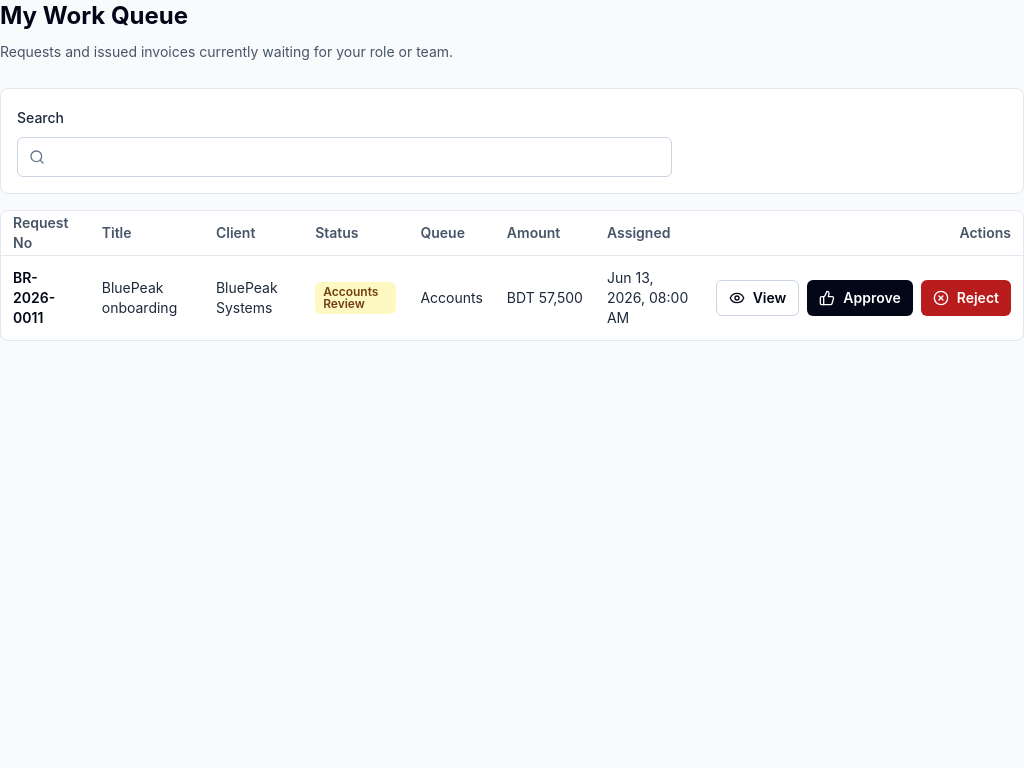
Test case: MyWorkQueuePage › opens comment dialogs for approving and rejecting queued work
Click the button "Approve" at {"x": 860, "y": 298}, box [807,280,913,316]
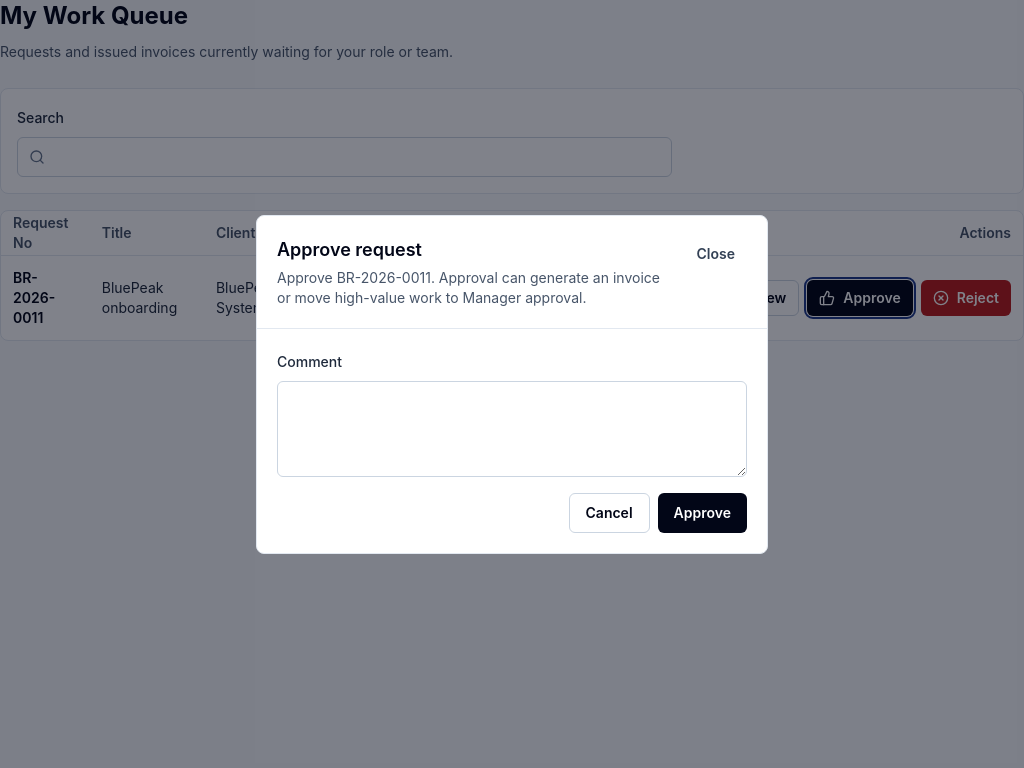
Expected: the dialog is shown
Expected: the heading "Approve request" is shown, [277,238,422,260]
Expected: the text box labelled "Comment" is shown, [277,380,747,476]
Click the button with aria-label "Close dialog" at {"x": 716, "y": 254}, box [684,236,747,272]
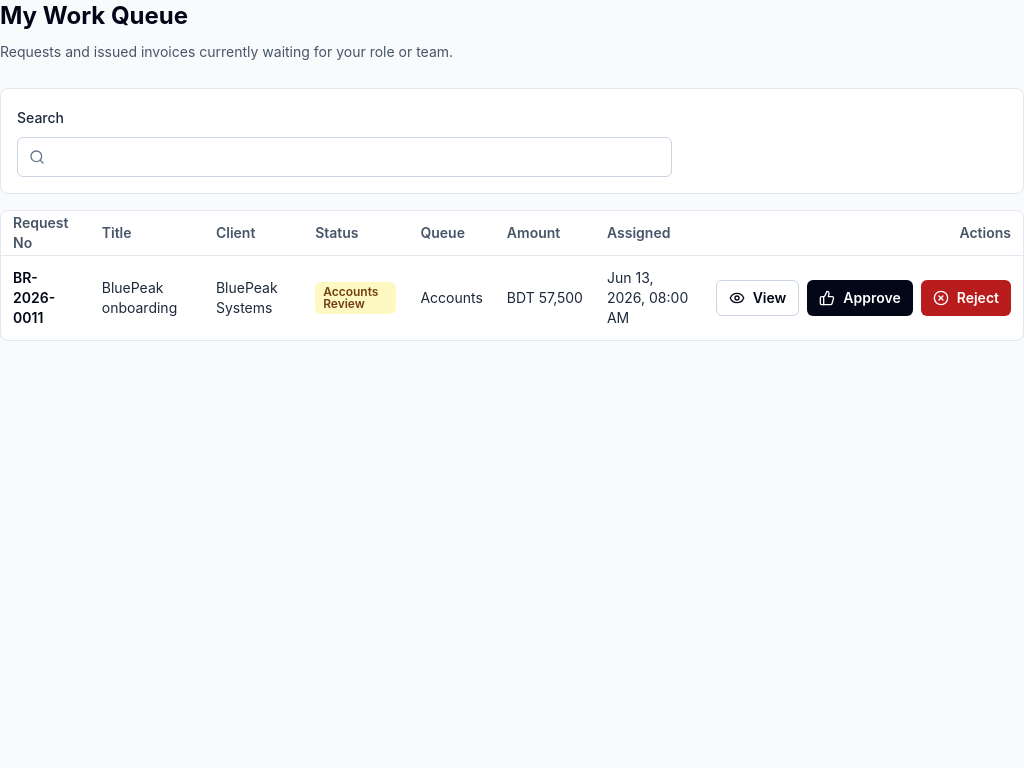
Click the button "Reject" at {"x": 966, "y": 298}, box [921,280,1011,316]
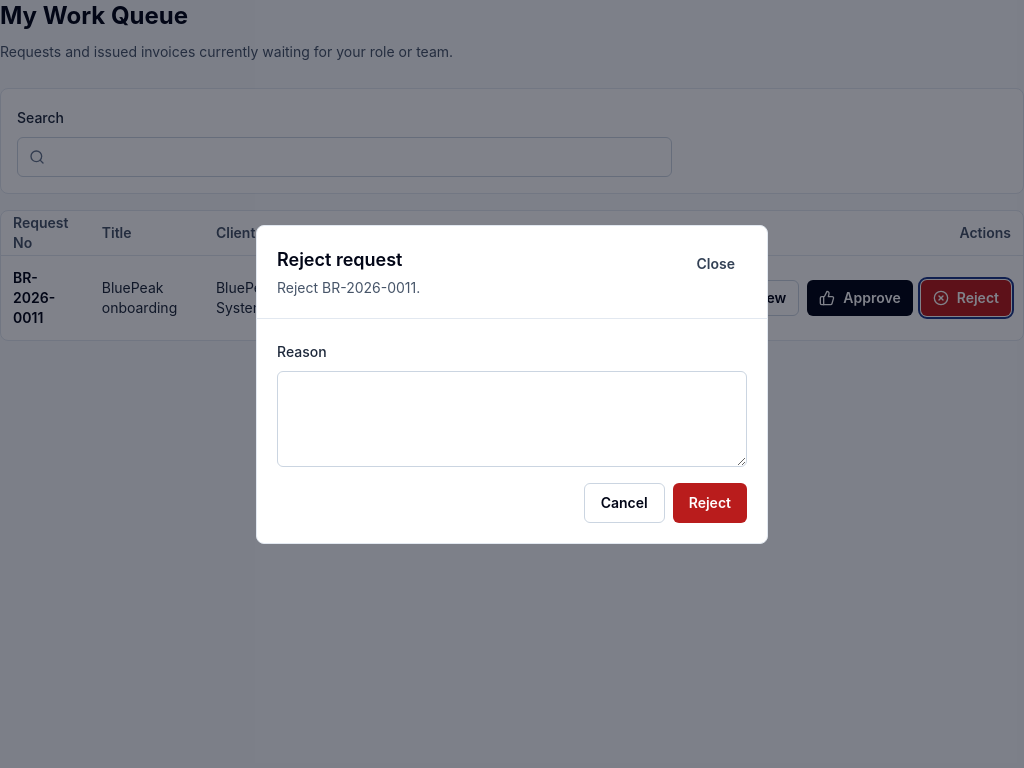
Expected: the heading "Reject request" is shown, [277,246,420,274]
Expected: the text box labelled "Reason" is shown, [277,370,747,466]
